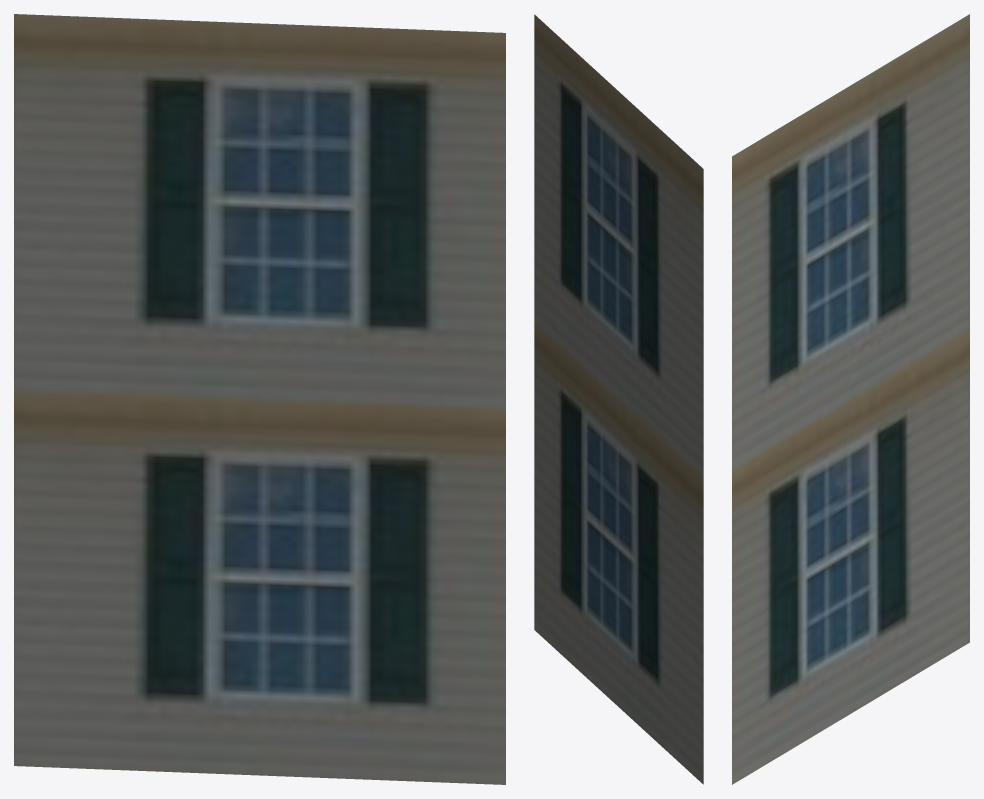
File: ResTex__3552.fbx
The picture shows the model from 3 angles, left to right: view 1: azimuth 30°, elevation 25°; view 2: azimuth 150°, elevation 25°; view 3: azimuth 270°, elevation 25°; orthographic projection. The views are drawn at different scales.
Parts seen in each view (by area): view 1: CityEngineMaterial_7_m; view 2: CityEngineMaterial_7_m; view 3: CityEngineMaterial_7_m.
Part boxes in pixels (bbox=[...]): CityEngineMaterial_7_m: bbox=[14, 14, 505, 784]; CityEngineMaterial_7_m: bbox=[534, 14, 703, 784]; CityEngineMaterial_7_m: bbox=[732, 14, 969, 784].
Bounding box in the file's own units: 2.92 × 6 × 2.06.
Materials: 1 (1 with a texture image).
